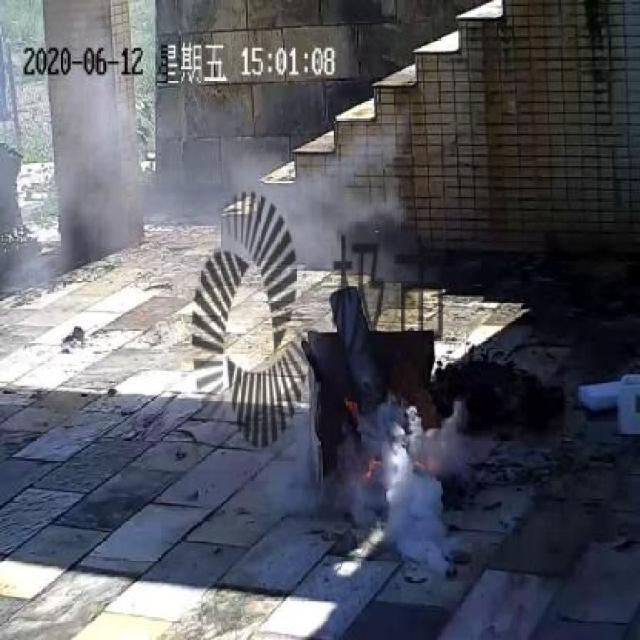Fire: (366, 452, 380, 481)
